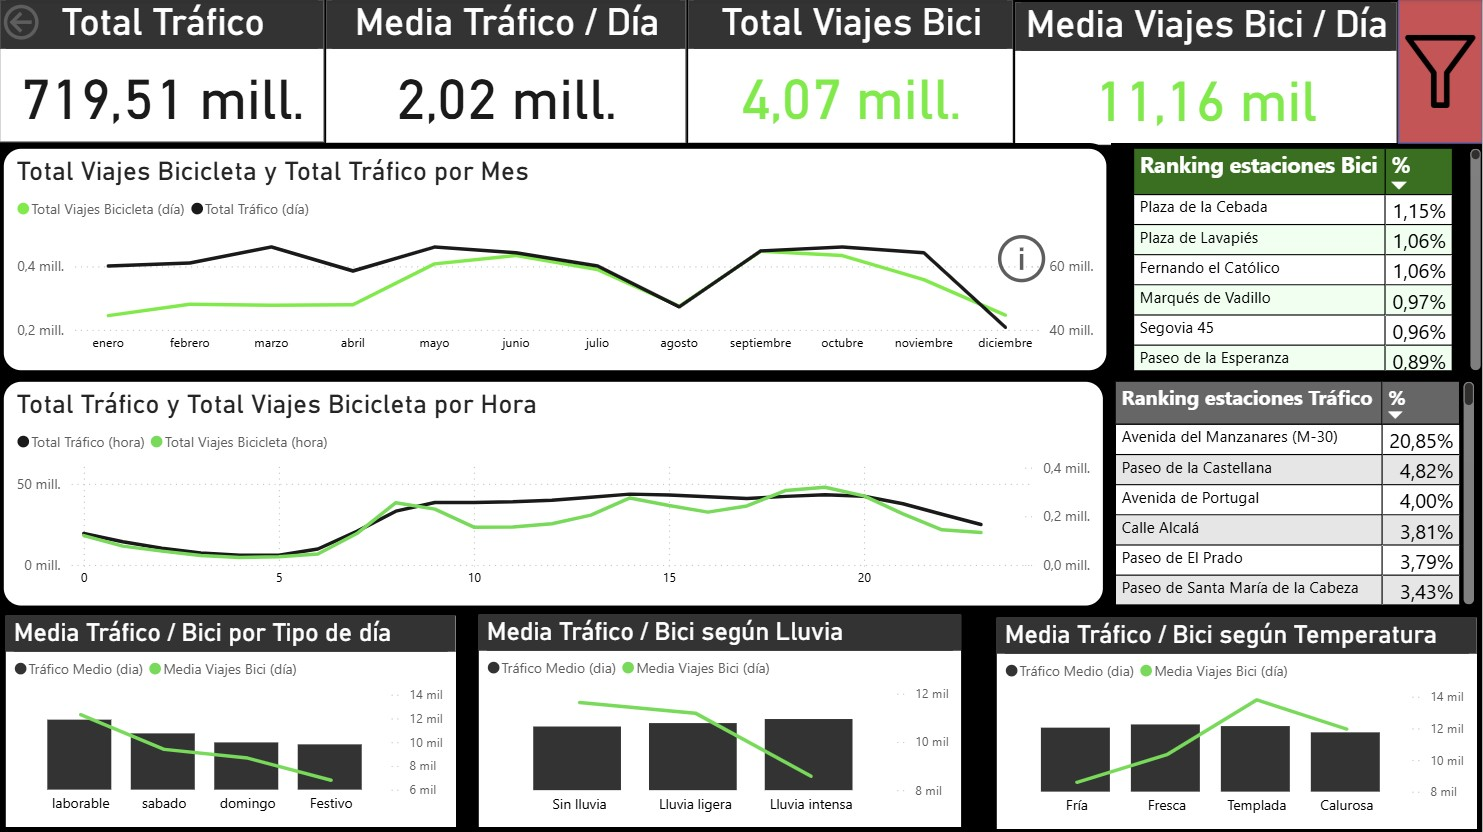

The dashboard page shown, as its layout file describes it:
{"tool":"powerbi","page":{"name":"Overview","canvas":[1280,720],"ordinal":0},"visuals":[{"type":"card","title":"Total Tráfico","fields":{"Values":["1. Medidas.Total Afluencia (día)"]},"box":[0.9,0,281,124.3],"z":0},{"type":"card","title":"Total Viajes Bici","fields":{"Values":["1. Medidas.Total Vaijes Bicicleta (día)"]},"box":[594.4,0,282.2,124.6],"z":1000},{"type":"card","title":"Media Tráfico / Día","fields":{"Values":["1. Medidas.Afluencia Media (dia)"]},"box":[282.2,0,312.3,124.6],"z":2000},{"type":"card","title":"Media Viajes Bici / Día","fields":{"Values":["1. Medidas.Media Viajes Bici (día)"]},"box":[876.6,1.4,330.9,124.6],"z":3000},{"type":"lineChart","title":"Total Viajes Bicicleta y Total Tráfico por Mes","fields":{"Y":["1. Medidas.Total Vaijes Bicicleta (día)"],"Category":["DimensionCalendario.Date.Variación.Jerarquía de fechas.Mes"],"Y2":["1. Medidas.Total Afluencia (día)"]},"box":[0,123.9,961,201.1],"z":4000},{"type":"lineChart","title":"Total Tráfico y Total Viajes Bicicleta por Hora","fields":{"Y":["1. Medidas.Total Afluencia (hora)"],"Y2":["1. Medidas.Total Viajes Bicicleta (hora)"],"Category":["DimensionHora.Hora"]},"box":[0,325.6,958.5,202.9],"z":5000},{"type":"pivotTable","title":"Top Estaciones Destino","fields":{"Rows":["2022_bicimad_cleaned.lock_station_name"],"Values":["1. Medidas.Total Viajes Bicicleta (hora)"]},"box":[959.7,124.6,319.4,200.5],"z":6000},{"type":"pivotTable","fields":{"Rows":["trafico_madrid_2022_reestructurado.estacion"],"Values":["1. Medidas.Total Afluencia (hora)"]},"box":[959.3,325.3,319.1,201.8],"z":7000},{"type":"lineStackedColumnComboChart","title":"Media Tráfico / Bici por Tipo de día","fields":{"Category":["calendario_clean.Tipo"],"Y":["1. Medidas.Tráfico Medio (dia)"],"Y2":["1. Medidas.Media Viajes Bici (día)"]},"box":[1.4,527.1,398.2,191.9],"z":8000},{"type":"lineStackedColumnComboChart","title":"Media Tráfico / Bici según Lluvia","fields":{"Y":["1. Medidas.Tráfico Medio (dia)"],"Y2":["1. Medidas.Media Viajes Bici (día)"],"Category":["OrdenPrcp.Cat_prcp"]},"box":[409.8,526.4,426.5,193.3],"z":9000},{"type":"lineStackedColumnComboChart","title":"Media Tráfico / Bici según Temperatura","fields":{"Y":["1. Medidas.Tráfico Medio (dia)"],"Y2":["1. Medidas.Media Viajes Bici (día)"],"Category":["OrdenTemp.Cat_temp"]},"box":[856.6,528.6,424,191.9],"z":10000},{"type":"shape","box":[1207.5,0,73.1,124.6],"z":11000},{"type":"actionButton","box":[0,0,100,40],"z":12000},{"type":"image","title":"VER Filtro","box":[1207.5,0,73.1,124.6],"z":15000},{"type":"actionButton","title":"Botón mostrar","box":[856.1,184.7,52.8,79.2],"z":16000}]}

Visuals, with their boxes in screenshot pixels (x1, y1, x2, y2), scaled from the page's 1280x720 canvas onto the 1483x832 screenshot:
"Total Tráfico" card: box(1, 0, 327, 144)
"Total Viajes Bici" card: box(689, 0, 1016, 144)
"Media Tráfico / Día" card: box(327, 0, 689, 144)
"Media Viajes Bici / Día" card: box(1016, 2, 1399, 146)
"Total Viajes Bicicleta y Total Tráfico por Mes" lineChart: box(0, 143, 1113, 376)
"Total Tráfico y Total Viajes Bicicleta por Hora" lineChart: box(0, 376, 1111, 611)
"Top Estaciones Destino" pivotTable: box(1112, 144, 1482, 376)
pivotTable - trafico_madrid_2022_reestructurado.estacion x 1. Medidas.Total Afluencia (hora): box(1111, 376, 1481, 609)
"Media Tráfico / Bici por Tipo de día" lineStackedColumnComboChart: box(2, 609, 463, 831)
"Media Tráfico / Bici según Lluvia" lineStackedColumnComboChart: box(475, 608, 969, 831)
"Media Tráfico / Bici según Temperatura" lineStackedColumnComboChart: box(992, 611, 1482, 831)
shape: box(1399, 0, 1482, 144)
actionButton: box(0, 0, 116, 46)
"VER Filtro" image: box(1399, 0, 1482, 144)
"Botón mostrar" actionButton: box(992, 213, 1053, 305)
